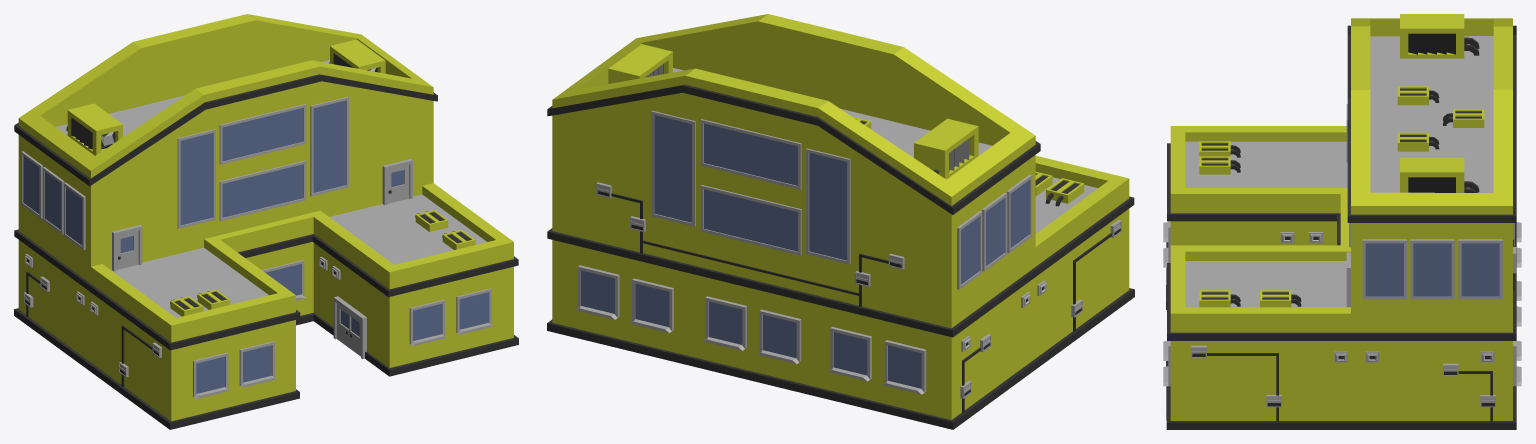
File: Building11_1.fbx
3 renders of one model, left to right at view 1: azimuth 30°, elevation 25°; view 2: azimuth 150°, elevation 25°; view 3: azimuth 270°, elevation 25°, orthographic. The views are drawn at different scales.
Visible parts, largest first — view 1: Building11_1; view 2: Building11_1; view 3: Building11_1.
Part boxes in pixels (x1,y1,x2,y2): Building11_1: (14, 14, 518, 429); Building11_1: (547, 14, 1134, 429); Building11_1: (1163, 14, 1521, 429).
Bounding box in the file's own units: 1144 × 772 × 907.
